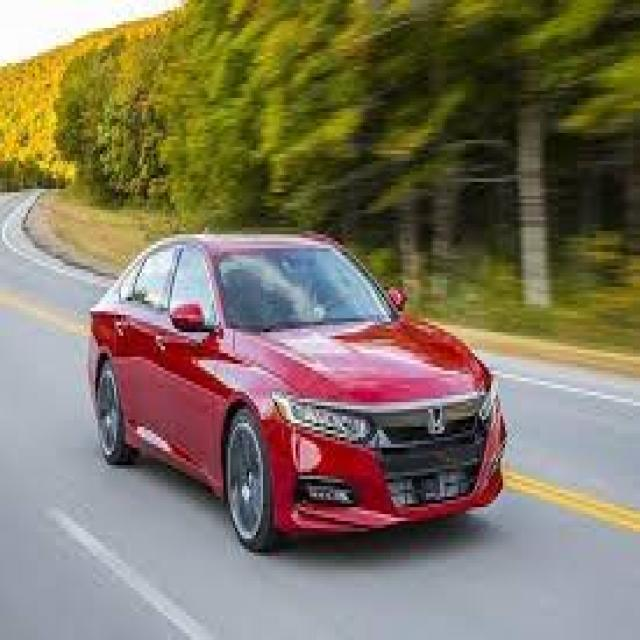Car: (84, 224, 514, 556)
